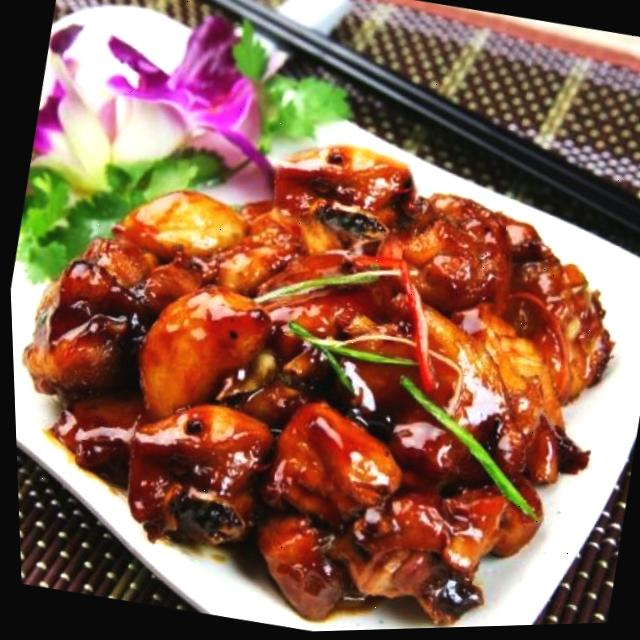鸡肉料理 含炸鸡: (1, 22, 640, 640)
